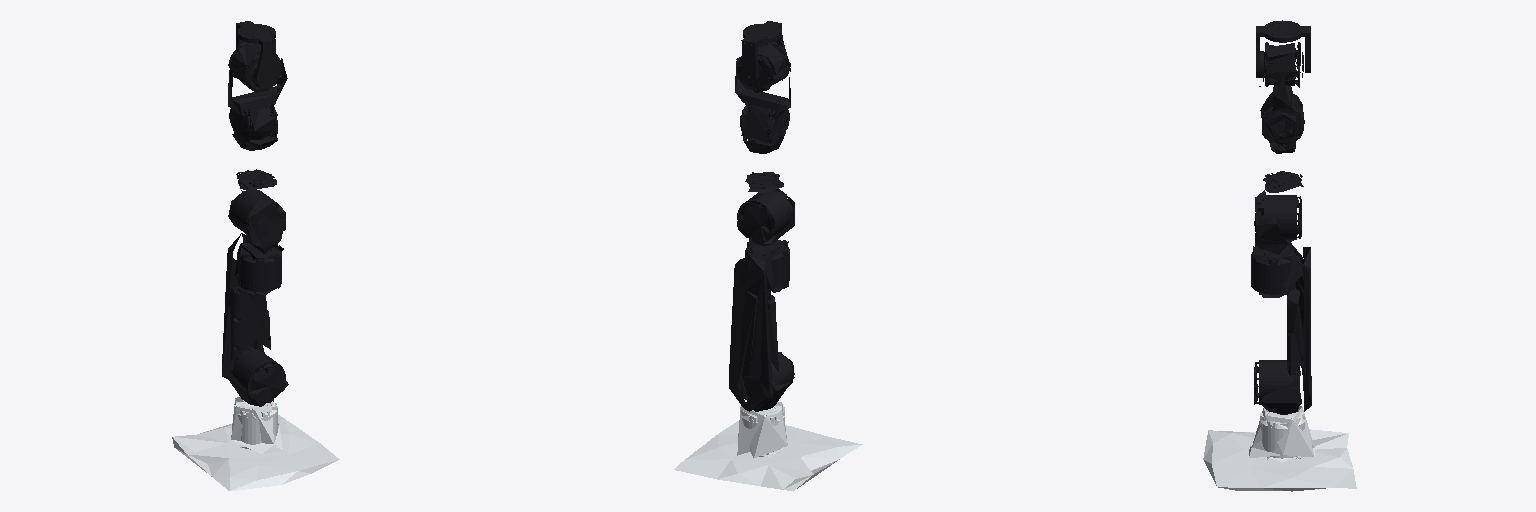
URDF robot description (arm_bot):
<?xml version="1.0" ?>
<!-- =================================================================================== -->
<!-- |    This document was autogenerated by xacro from /home/nak/go2_ws/src/arm_bot/urdf/arm.xacro | -->
<!-- |    EDITING THIS FILE BY HAND IS NOT RECOMMENDED                                 | -->
<!-- =================================================================================== -->
<!-- This URDF was automatically created by SolidWorks to URDF Exporter! Originally created by Stephen Brawner (brawner@gmail.com)
     Commit Version: 1.6.0-4-g7f85cfe  Build Version: 1.6.7995.38578
     For more information, please see http://wiki.ros.org/sw_urdf_exporter -->
<robot name="arm_bot">
  <!-- Anchor the robot to the world so the base doesn't drift under gravity. -->
  <link name="world"/>
  <joint name="world_to_base" type="fixed">
    <parent link="world"/>
    <child link="base_link"/>
    <origin rpy="0 0 0" xyz="0 0 0"/>
  </joint>
  <link name="base_link">
    <inertial>
      <origin rpy="0 0 0" xyz="1.82408447749194E-07 3.51716012578392E-06 0.00902025307310225"/>
      <mass value="0.600112766290217"/>
      <inertia ixx="0.00142271929258348" ixy="-1.84401120983798E-08" ixz="2.64639323534756E-09" iyy="0.0013839671431916" iyz="-9.69141190424078E-08" izz="0.00267251954660065"/>
    </inertial>
    <visual>
      <origin rpy="0 0 0" xyz="0 0 0"/>
      <geometry>
        <mesh filename="meshes/base_link.STL"/>
      </geometry>
      <material name="">
        <color rgba="0.894117647058823 0.913725490196078 0.929411764705882 1"/>
      </material>
    </visual>
    <collision>
      <origin rpy="0 0 0" xyz="0 0 0"/>
      <geometry>
        <box size="0.05 0.05 0.05"/>
      </geometry>
    </collision>
  </link>
  <link name="Link_1">
    <inertial>
      <origin rpy="0 0 0" xyz="-2.25326301170892E-05 -0.00342275072730493 0.0379899100805087"/>
      <mass value="0.178697895381802"/>
      <inertia ixx="7.96290461236143E-05" ixy="-2.55980621474788E-08" ixz="2.94304187269095E-08" iyy="9.47363858187909E-05" iyz="-6.46778588079736E-06" izz="7.81564431392561E-05"/>
    </inertial>
    <visual>
      <origin rpy="0 0 0" xyz="0 0 0"/>
      <geometry>
        <mesh filename="meshes/Link_1.STL"/>
      </geometry>
      <material name="">
        <color rgba="0.15 0.15 0.17 1"/>
      </material>
    </visual>
    <collision>
      <origin rpy="0 0 0" xyz="0 0 0"/>
      <geometry>
        <box size="0.05 0.05 0.05"/>
      </geometry>
    </collision>
  </link>
  <joint name="joint_1" type="revolute">
    <origin rpy="0 0 0" xyz="0 0 0.06325"/>
    <parent link="base_link"/>
    <child link="Link_1"/>
    <axis xyz="0 0 1"/>
    <limit effort="80" lower="-3.14" upper="3.14" velocity="3"/>
    <dynamics damping="0.5" friction="0.1"/>
  </joint>
  <link name="Link_2">
    <inertial>
      <origin rpy="0 0 0" xyz="-2.80274159384641E-05 -0.116318399735538 -0.0228853770620961"/>
      <mass value="0.348159192515571"/>
      <inertia ixx="0.000477027991002022" ixy="2.15888231822849E-08" ixz="1.91263112133737E-08" iyy="0.000144550455995752" iyz="-3.87745378235415E-06" izz="0.000525800936425436"/>
    </inertial>
    <visual>
      <origin rpy="0 0 0" xyz="0 0 0"/>
      <geometry>
        <mesh filename="meshes/Link_2.STL"/>
      </geometry>
      <material name="">
        <color rgba="0.15 0.15 0.17 1"/>
      </material>
    </visual>
    <collision>
      <origin rpy="0 0 0" xyz="0 0 0"/>
      <geometry>
        <box size="0.05 0.05 0.05"/>
      </geometry>
    </collision>
  </link>
  <joint name="joint_2" type="revolute">
    <origin rpy="-1.5708 0 0" xyz="0 0.03075 0.0419"/>
    <parent link="Link_1"/>
    <child link="Link_2"/>
    <axis xyz="0 0 1"/>
    <limit effort="80" lower="-1.5708" upper="1.5708" velocity="3"/>
    <dynamics damping="0.5" friction="0.1"/>
  </joint>
  <link name="Link_3">
    <inertial>
      <origin rpy="0 0 0" xyz="-2.31977251451965E-05 0.00291620685841659 0.0400293534087893"/>
      <mass value="0.179709253045907"/>
      <inertia ixx="8.11995141559795E-05" ixy="3.02662559212822E-08" ixz="1.22308541785918E-08" iyy="9.67926159536252E-05" iyz="6.76084403303808E-06" izz="7.86977187926689E-05"/>
    </inertial>
    <visual>
      <origin rpy="0 0 0" xyz="0 0 0"/>
      <geometry>
        <mesh filename="meshes/Link_3.STL"/>
      </geometry>
      <material name="">
        <color rgba="0.15 0.15 0.17 1"/>
      </material>
    </visual>
    <collision>
      <origin rpy="0 0 0" xyz="0 0 0"/>
      <geometry>
        <box size="0.05 0.05 0.05"/>
      </geometry>
    </collision>
  </link>
  <joint name="joint_3" type="revolute">
    <origin rpy="1.5708 0 0" xyz="0 -0.1858 -0.0419"/>
    <parent link="Link_2"/>
    <child link="Link_3"/>
    <axis xyz="0 0 -1"/>
    <limit effort="80" lower="-3.14" upper="3.14" velocity="3"/>
    <dynamics damping="0.5" friction="0.1"/>
  </joint>
  <link name="Link_4">
    <inertial>
      <origin rpy="0 0 0" xyz="2.13115813275933E-06 0.0597212181397539 -0.029199947092636"/>
      <mass value="0.211779849616449"/>
      <inertia ixx="0.000116526342724511" ixy="-4.30364662012504E-09" ixz="-9.6691440600656E-08" iyy="9.63481513847041E-05" iyz="4.49677418706646E-06" izz="0.000132714805957377"/>
    </inertial>
    <visual>
      <origin rpy="0 0 0" xyz="0 0 0"/>
      <geometry>
        <mesh filename="meshes/Link_4.STL"/>
      </geometry>
      <material name="">
        <color rgba="0.15 0.15 0.17 1"/>
      </material>
    </visual>
    <collision>
      <origin rpy="0 0 0" xyz="0 0 0"/>
      <geometry>
        <box size="0.05 0.05 0.05"/>
      </geometry>
    </collision>
  </link>
  <joint name="joint_4" type="revolute">
    <origin rpy="1.5708 0 0" xyz="0 -0.03125 0.0442"/>
    <parent link="Link_3"/>
    <child link="Link_4"/>
    <axis xyz="0 0 1"/>
    <limit effort="80" lower="-1.5708" upper="1.5708" velocity="3"/>
    <dynamics damping="0.5" friction="0.1"/>
  </joint>
  <link name="Link_5">
    <inertial>
      <origin rpy="0 0 0" xyz="-0.0017723327104861 2.15124878880438E-06 0.0455126048772683"/>
      <mass value="0.15908104719164"/>
      <inertia ixx="5.68632890424796E-05" ixy="-7.82508226968812E-10" ixz="-5.82924097998462E-07" iyy="7.16893594239922E-05" iyz="-2.69202150194192E-08" izz="6.77401522669966E-05"/>
    </inertial>
    <visual>
      <origin rpy="0 0 0" xyz="0 0 0"/>
      <geometry>
        <mesh filename="meshes/Link_5.STL"/>
      </geometry>
      <material name="">
        <color rgba="0.15 0.15 0.17 1"/>
      </material>
    </visual>
    <collision>
      <origin rpy="0 0 0" xyz="0 0 0"/>
      <geometry>
        <box size="0.05 0.05 0.05"/>
      </geometry>
    </collision>
  </link>
  <joint name="joint_5" type="revolute">
    <origin rpy="-1.5708 0 0" xyz="0 0.09375 -0.0424"/>
    <parent link="Link_4"/>
    <child link="Link_5"/>
    <axis xyz="0 0 -1"/>
    <limit effort="80" lower="-3.14" upper="3.14" velocity="3"/>
    <dynamics damping="0.5" friction="0.1"/>
  </joint>
  <link name="Link_6">
    <inertial>
      <origin rpy="0 0 0" xyz="-0.0010954 -0.00018174 -0.040472"/>
      <mass value="0.11675"/>
      <inertia ixx="4.3059E-05" ixy="-6.2343E-08" ixz="6.1093E-08" iyy="3.3174E-05" iyz="1.3031E-07" izz="3.334E-05"/>
    </inertial>
    <visual>
      <origin rpy="0 0 0" xyz="0 0 0"/>
      <geometry>
        <mesh filename="meshes/Link_6.STL"/>
      </geometry>
      <material name="">
        <color rgba="0.15 0.15 0.17 1"/>
      </material>
    </visual>
    <collision>
      <origin rpy="0 0 0" xyz="0 0 0"/>
      <geometry>
        <box size="0.05 0.05 0.05"/>
      </geometry>
    </collision>
  </link>
  <joint name="joint_6" type="revolute">
    <origin rpy="1.5708 0 1.5708" xyz="0.0405 0 0.11837"/>
    <parent link="Link_5"/>
    <child link="Link_6"/>
    <axis xyz="0 0 1"/>
    <limit effort="80" lower="-0.48869" upper="0.2618" velocity="3"/>
    <dynamics damping="0.5" friction="0.1"/>
  </joint>
  <link name="Link_7">
    <inertial>
      <origin rpy="0 0 0" xyz="-0.00045228 0.013833 0.027141"/>
      <mass value="0.020351"/>
      <inertia ixx="5.7603E-06" ixy="1.4711E-07" ixz="-6.4949E-09" iyy="1.2412E-06" iyz="1.951E-07" izz="6.7452E-06"/>
    </inertial>
    <visual>
      <origin rpy="0 0 0" xyz="0 0 0"/>
      <geometry>
        <mesh filename="meshes/Link_7.STL"/>
      </geometry>
      <material name="">
        <color rgba="0.15 0.15 0.17 1"/>
      </material>
    </visual>
    <collision>
      <origin rpy="0 0 0" xyz="0 0 0"/>
      <geometry>
        <box size="0.05 0.05 0.05"/>
      </geometry>
    </collision>
  </link>
  <joint name="joint_7" type="revolute">
    <origin rpy="0 1.5708 0" xyz="-0.0335 0.00015003 -0.0405"/>
    <parent link="Link_6"/>
    <child link="Link_7"/>
    <axis xyz="0 0.0044784 -0.99999"/>
    <limit effort="80" lower="-1.5708" upper="1.5708" velocity="3"/>
    <dynamics damping="0.5" friction="0.1"/>
  </joint>
  <link name="ee">
    <inertial>
      <origin rpy="0 0 0" xyz="-9.67727459322693E-05 -1.33416526664366E-05 -0.00297909515214412"/>
      <mass value="0.0119347262769104"/>
      <inertia ixx="2.18322486775654E-06" ixy="2.59604774286172E-10" ixz="5.79678802798981E-08" iyy="1.85971321951526E-06" iyz="9.43233835191567E-09" izz="3.96584433984964E-06"/>
    </inertial>
    <visual>
      <origin rpy="0 0 0" xyz="0 0 0"/>
      <geometry>
        <mesh filename="meshes/ee.STL"/>
      </geometry>
      <material name="">
        <color rgba="0.15 0.15 0.17 1"/>
      </material>
    </visual>
    <collision>
      <origin rpy="0 0 0" xyz="0 0 0"/>
      <geometry>
        <box size="0.05 0.05 0.05"/>
      </geometry>
    </collision>
  </link>
  <joint name="fix" type="fixed">
    <origin rpy="1.5707963267949 0 3.14159265358979" xyz="-0.00162332444702011 0.0498231143785569 0.0337234649963674"/>
    <parent link="Link_7"/>
    <child link="ee"/>
    <axis xyz="0 0 0"/>
  </joint>
</robot>

--- What the picture shows (computed from the rendered views, not written in the file) ---
3 views of the same robot in one strip: view 1: azimuth 30°, elevation 25°; view 2: azimuth 150°, elevation 25°; view 3: azimuth 270°, elevation 25° (orthographic).
Robot: arm_bot — 10 links, 9 joints (7 revolute, 2 fixed); root link world; default pose: all joints at 0.
Links seen in each view (by area): view 1: base_link, Link_2, Link_5, Link_3, Link_1, Link_6, Link_7, Link_4, ee; view 2: base_link, Link_2, Link_5, Link_3, Link_6, Link_1, Link_7, ee, Link_4; view 3: base_link, Link_2, Link_3, Link_5, Link_1, Link_6, ee, Link_4, Link_7.
Link boxes in pixels (bbox=[...]): base_link: bbox=[172, 397, 339, 491]; Link_2: bbox=[222, 233, 283, 378]; Link_5: bbox=[228, 58, 287, 150]; Link_3: bbox=[228, 190, 285, 253]; Link_1: bbox=[224, 346, 288, 406]; Link_6: bbox=[228, 42, 283, 92]; Link_7: bbox=[236, 21, 279, 87]; Link_4: bbox=[236, 169, 276, 190]; ee: bbox=[237, 22, 275, 44]; base_link: bbox=[674, 402, 862, 491]; Link_2: bbox=[729, 240, 789, 411]; Link_5: bbox=[735, 61, 790, 153]; Link_3: bbox=[737, 189, 794, 245]; Link_6: bbox=[736, 42, 790, 92]; Link_1: bbox=[741, 352, 794, 411]; Link_7: bbox=[741, 21, 786, 83]; ee: bbox=[743, 22, 781, 44]; Link_4: bbox=[745, 172, 783, 192]; base_link: bbox=[1203, 406, 1356, 491]; Link_2: bbox=[1251, 243, 1311, 411]; Link_3: bbox=[1254, 190, 1301, 254]; Link_5: bbox=[1260, 75, 1304, 153]; Link_1: bbox=[1254, 360, 1301, 414]; Link_6: bbox=[1259, 42, 1303, 87]; ee: bbox=[1260, 20, 1304, 42]; Link_4: bbox=[1263, 171, 1303, 192]; Link_7: bbox=[1256, 26, 1310, 77].
Bounding box of the posed robot: 0.1756 × 0.1934 × 0.6081 m (x, y, z).
Meshes: 9 distinct files referenced, 9 mesh visuals loaded (9 binary STL).
